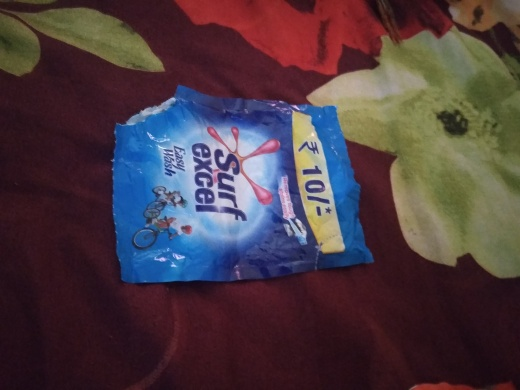surf: (92, 71, 390, 295)
